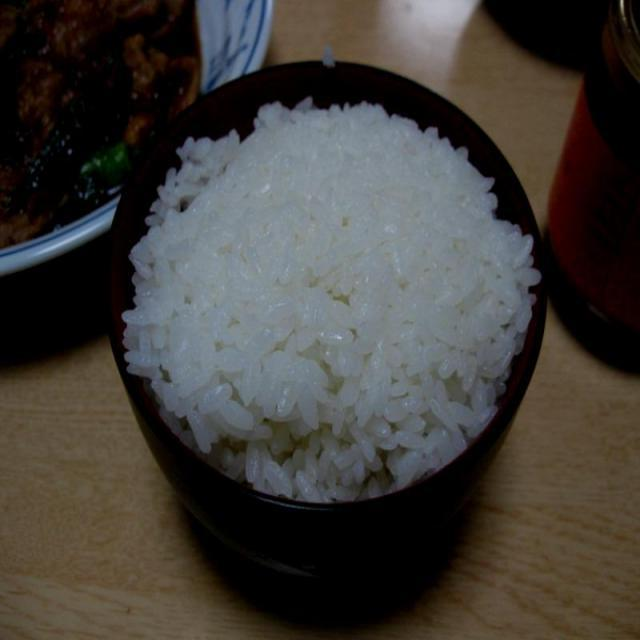rice: (121, 93, 540, 503)
